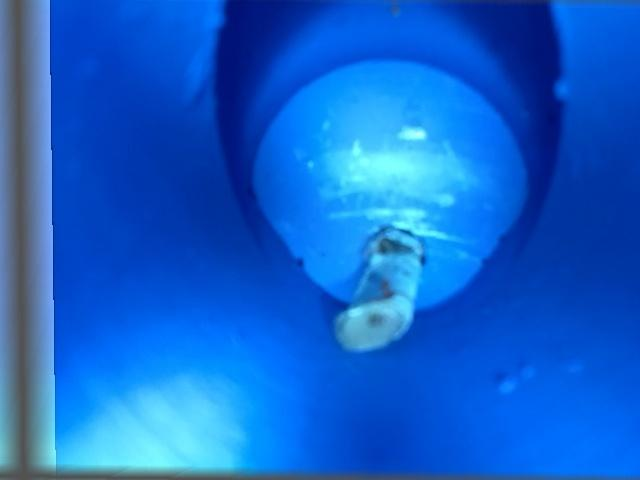megot: (322, 219, 436, 356)
